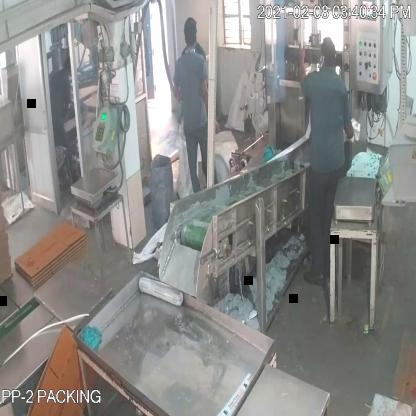no_glove: (292, 35, 308, 86)
